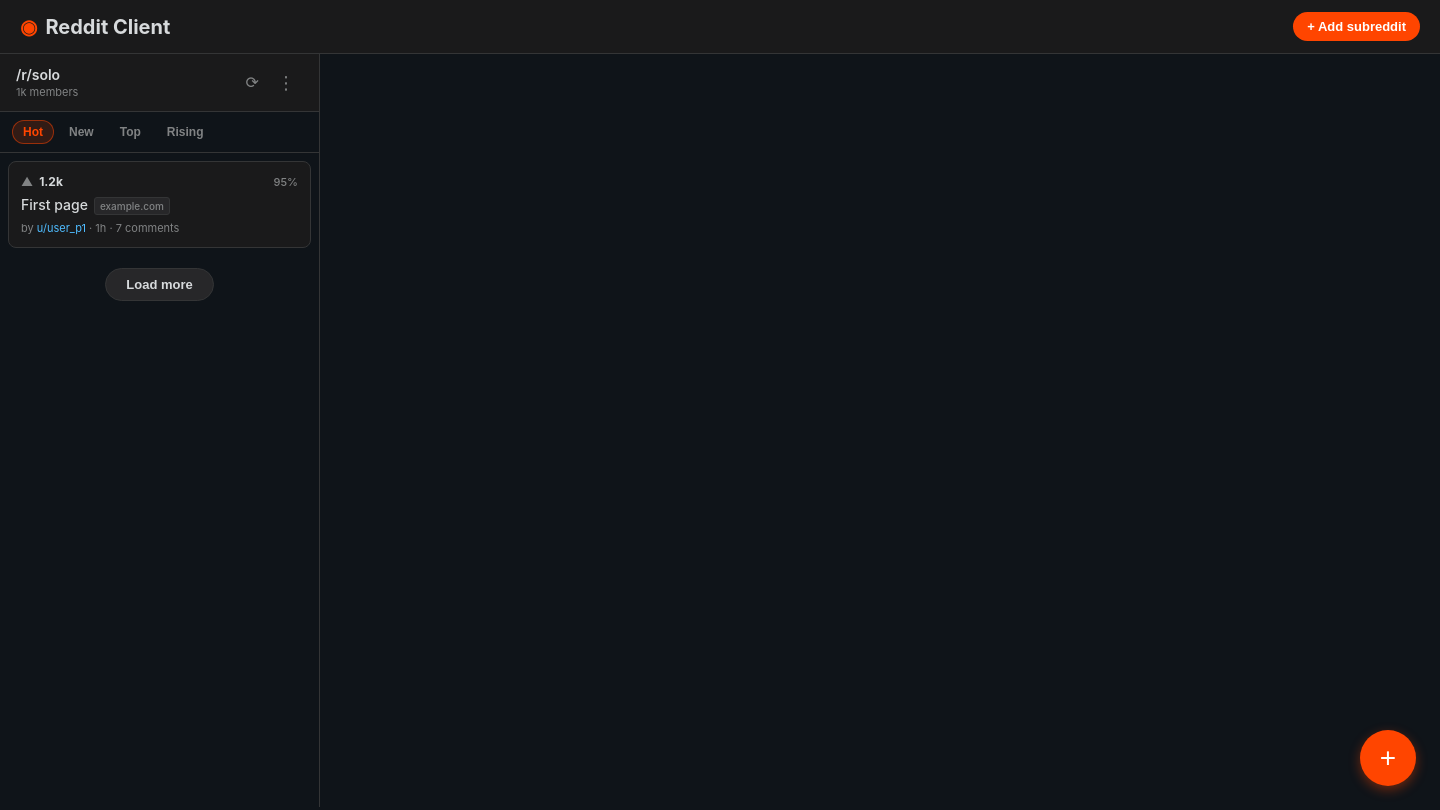
Reddit client › loads more posts using the after cursor
Expected: the heading "First page example.com" is shown, [21, 196, 170, 215]
Click the button "Load more" at (160, 284), box [105, 268, 214, 301]
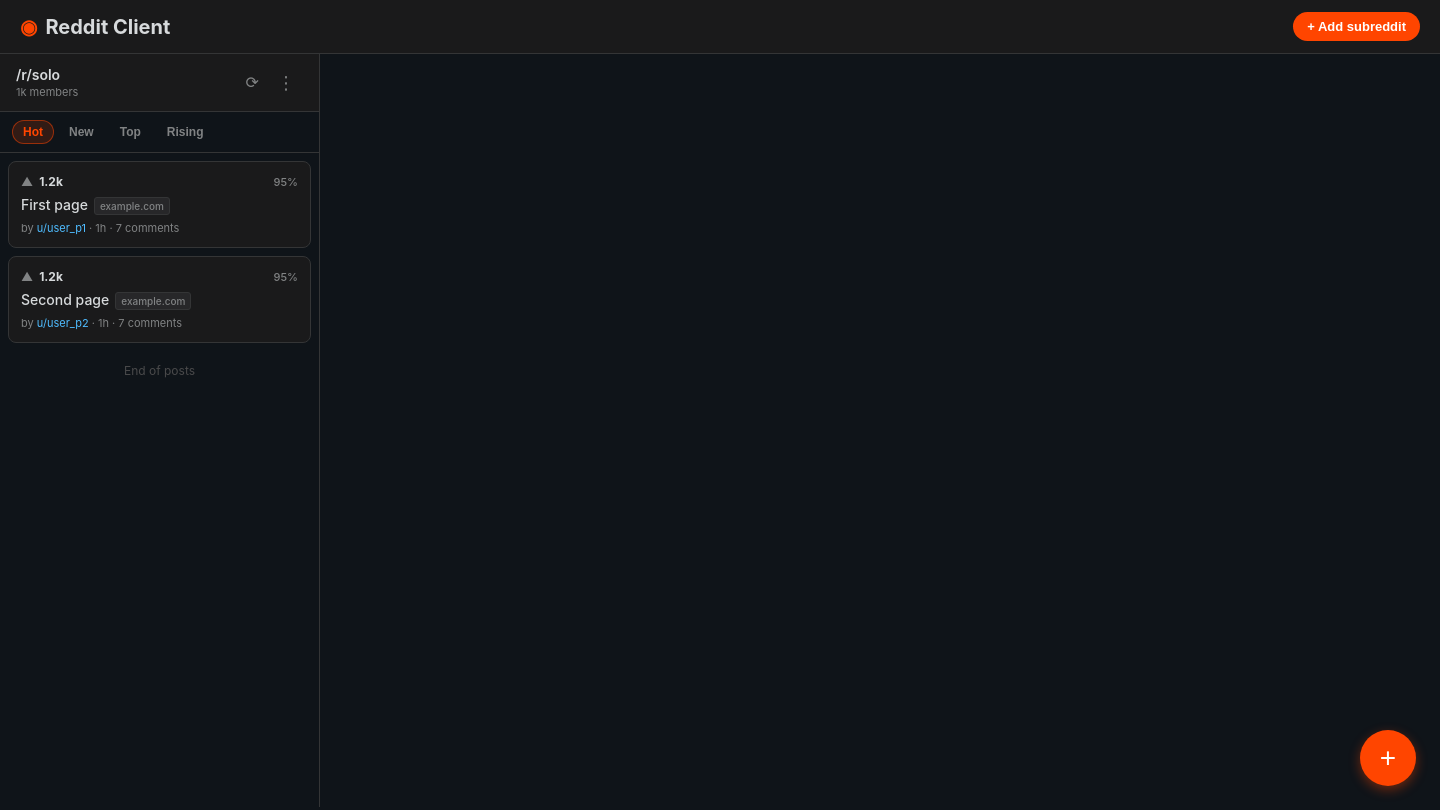
Result: the heading "Second page example.com" is shown at [21, 291, 191, 310]
Result: the button "Load more" is gone
